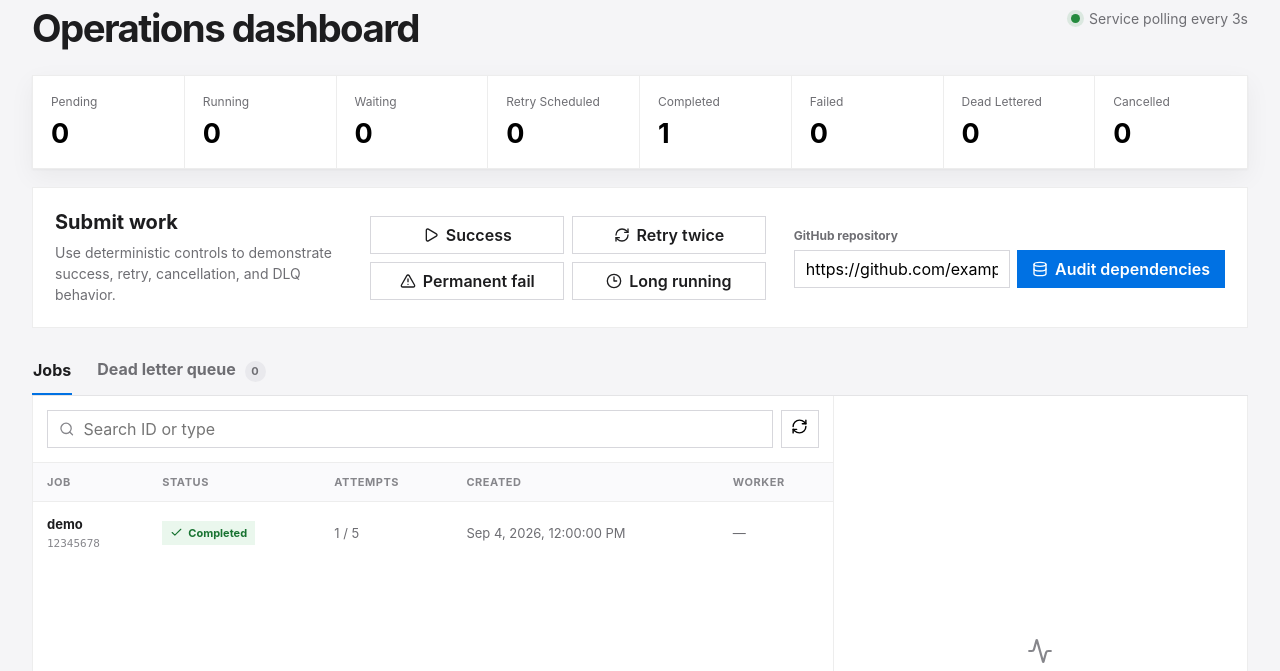
it: shows queue totals and a selected job lifecycle
Click the text "12345678": point(74, 543) x1=47 y1=536 x2=100 y2=550
(page scrolled)
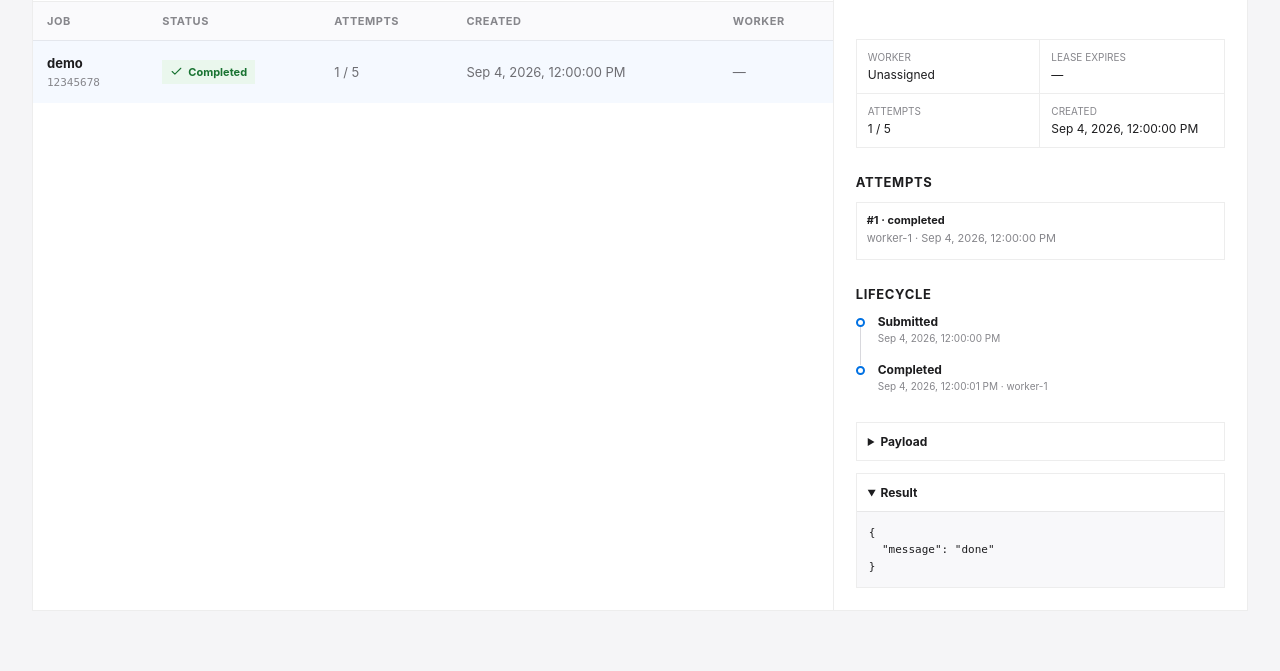
Check: the heading "Lifecycle" is shown, box x1=856 y1=286 x2=932 y2=302
Check: the text "worker-1 · Sep 4, 2026, 12:00:00 PM" is shown 2 times, box x1=867 y1=230 x2=1056 y2=244; x1=878 y1=380 x2=1048 y2=392
Check: the text "{ \"message\": \"done\" }" is shown, box x1=857 y1=510 x2=1224 y2=587
